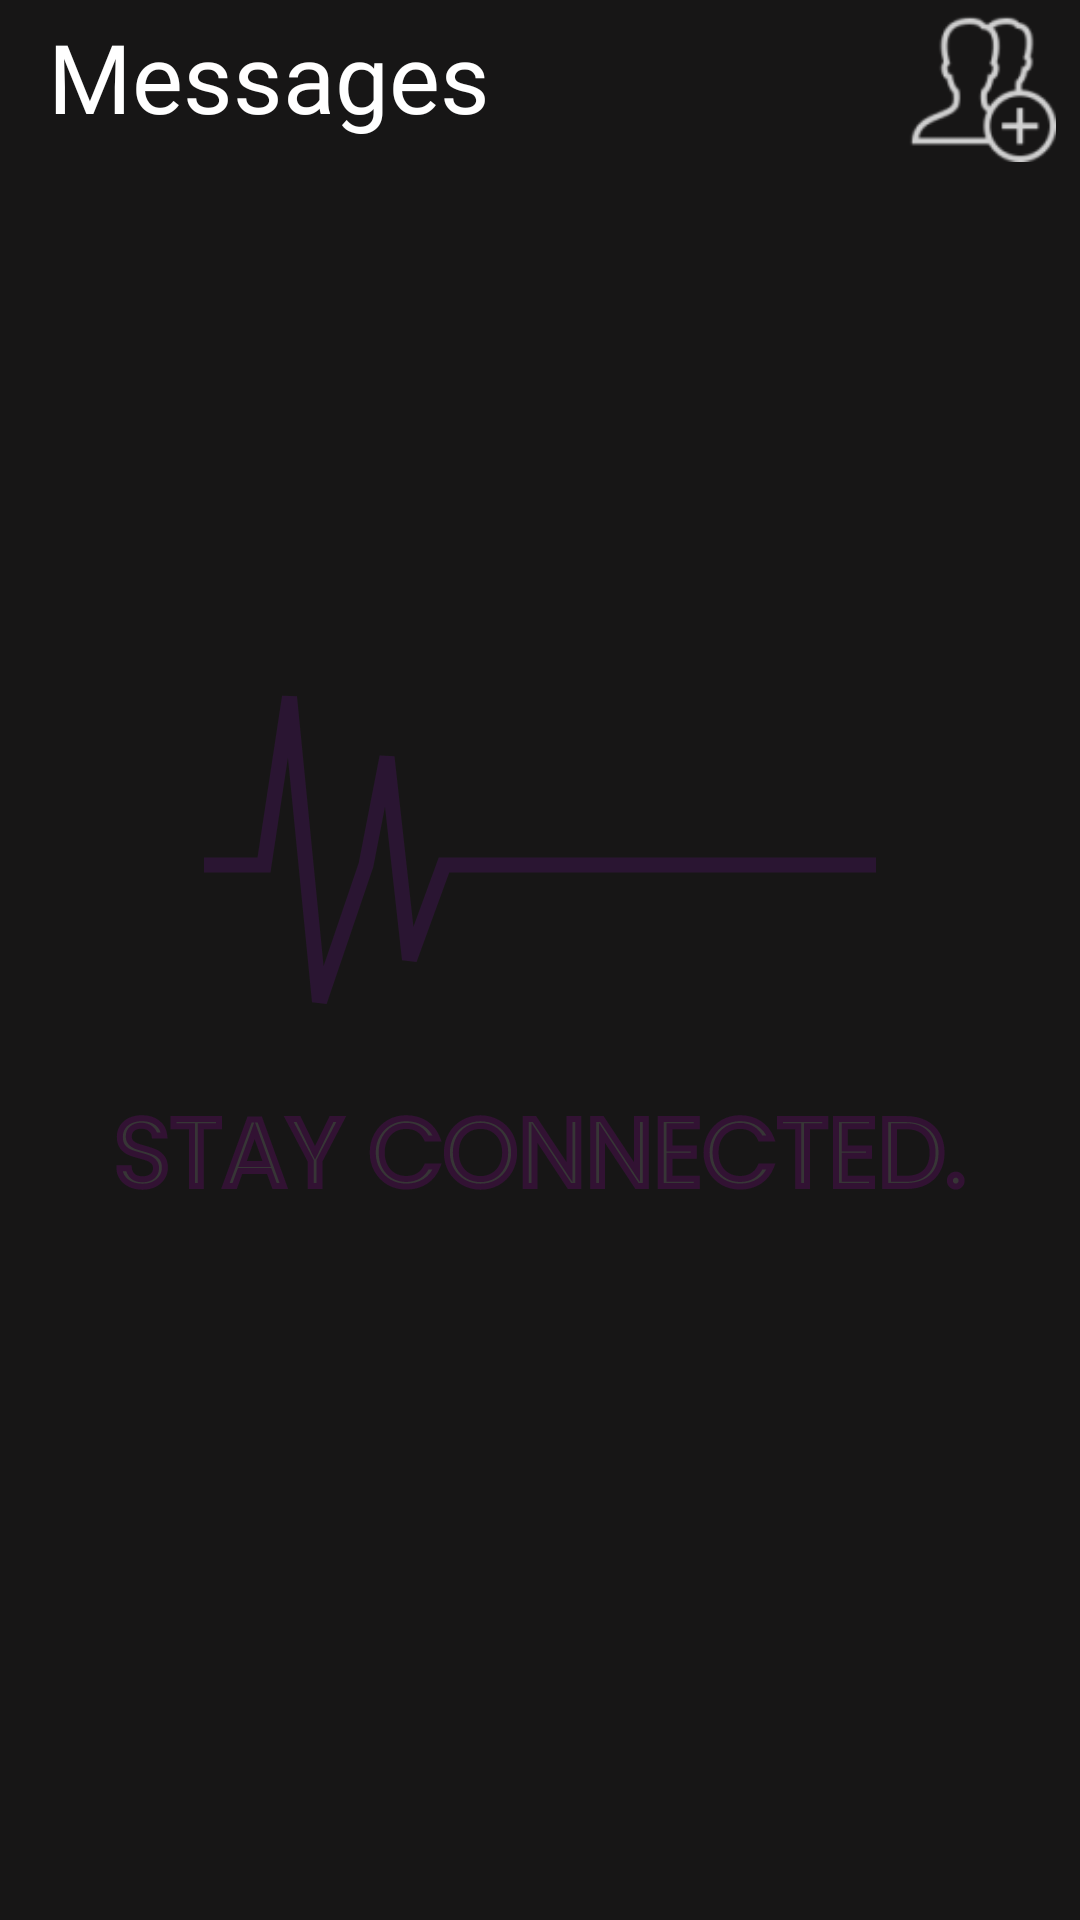

Icons on this 1080px x 1920px Android screen, each with its box as (x1, y1, x2, y2):
add friend: (911, 17, 1056, 162)
